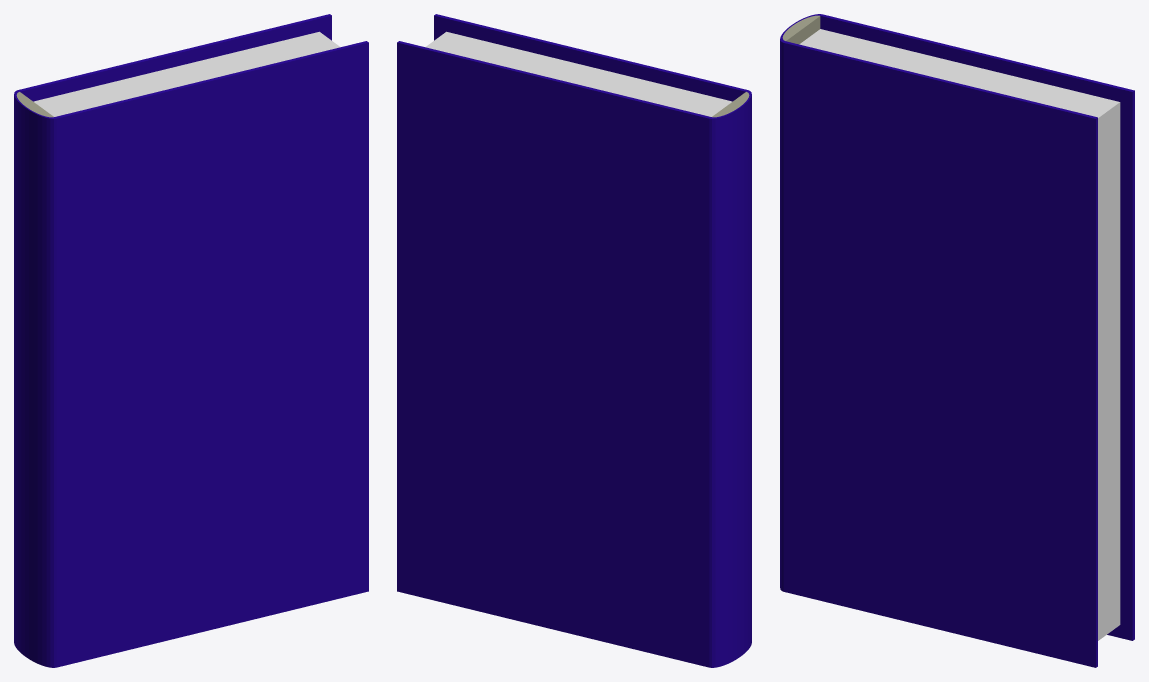
File: book 1.fbx
The picture shows the model from 3 angles, left to right: view 1: azimuth 30°, elevation 25°; view 2: azimuth 150°, elevation 25°; view 3: azimuth 330°, elevation 25°; orthographic projection.
Parts seen in each view (by area): view 1: Book; view 2: Book; view 3: Book.
Boxes of the visible parts, x1,y1,x2,y2 form: Book: (14,14,368,667); Book: (397,14,751,667); Book: (780,14,1134,667).
Size of the model in its own units: 64.94 by 105 by 13.5.
